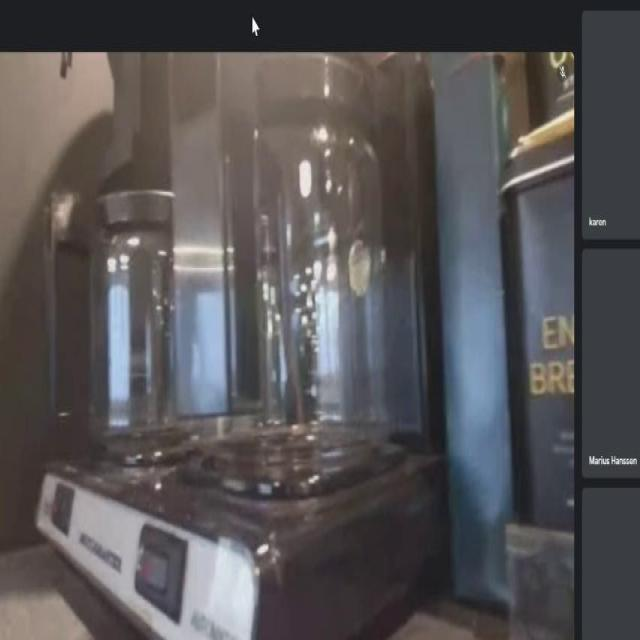nocoffee: (158, 59, 390, 478), (55, 144, 238, 474)
